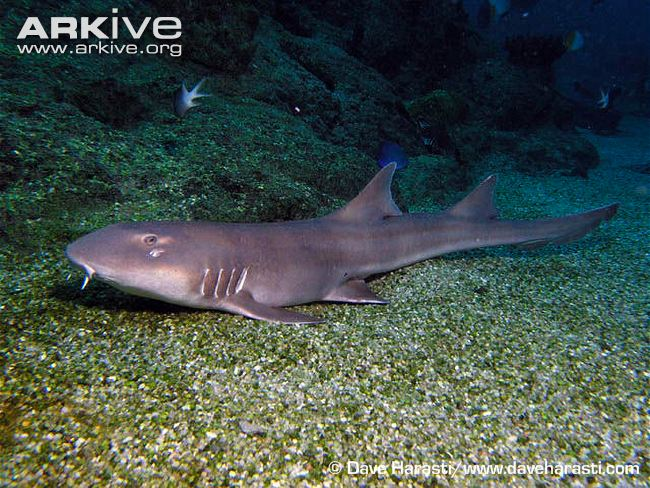shark: (45, 103, 627, 339)
